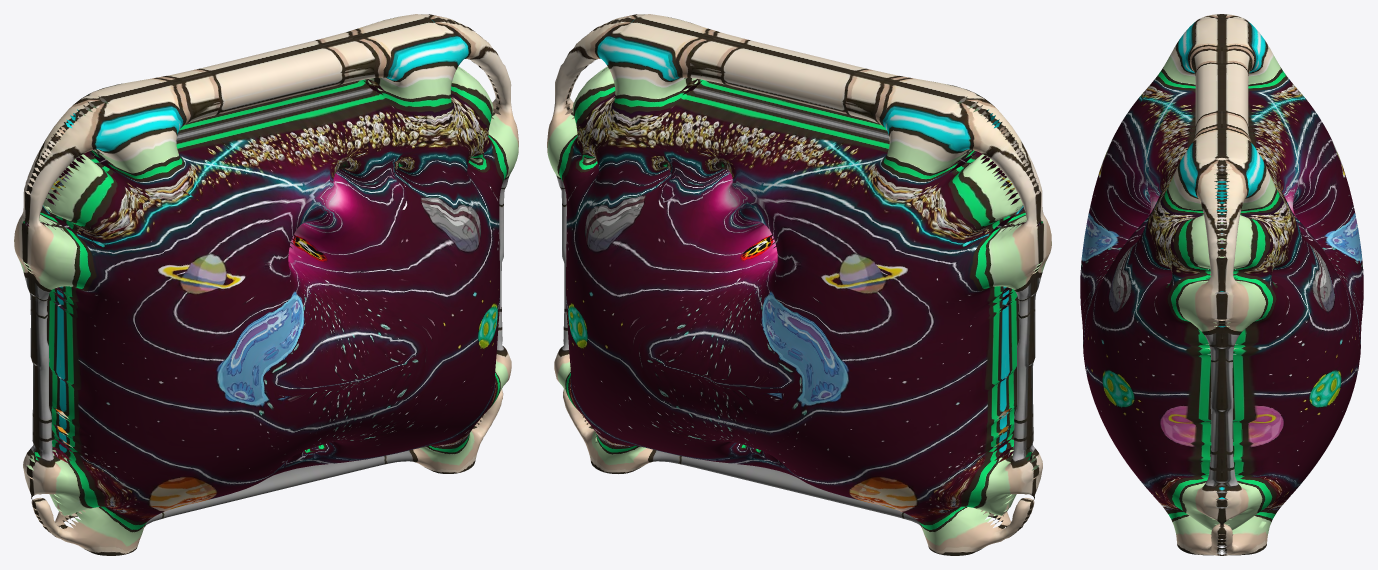
Rendered from main_display.glb.
3 views of the same model, side by side, from view 1: azimuth 30°, elevation 25°; view 2: azimuth 150°, elevation 25°; view 3: azimuth 270°, elevation 25° (orthographic). The views are drawn at different scales.
Parts seen in each view (by area): view 1: main_display; view 2: main_display; view 3: main_display.
Part boxes in pixels (left/top/right/bottom): main_display: left=14, top=14, right=518, bottom=555; main_display: left=547, top=14, right=1051, bottom=555; main_display: left=1080, top=14, right=1363, bottom=555.
Bounding box in the file's own units: 0.9888 × 0.8489 × 0.567.
1 material, 1 textured.
